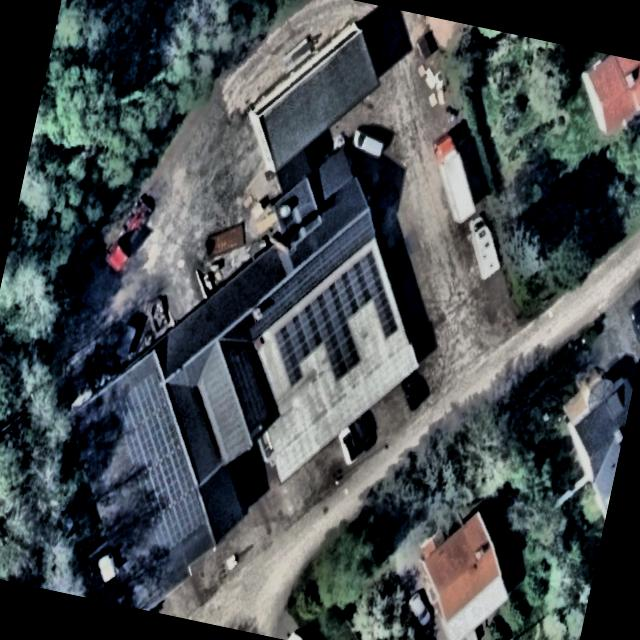roof_pv: (130, 399, 228, 562), (260, 286, 344, 391), (102, 366, 166, 468), (314, 308, 376, 386), (324, 246, 381, 312), (362, 288, 408, 344)
